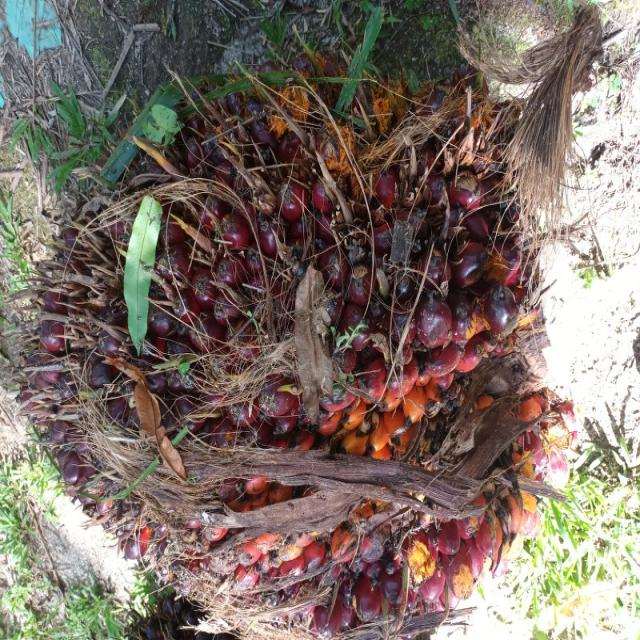fraksi 1: (74, 0, 617, 574)
